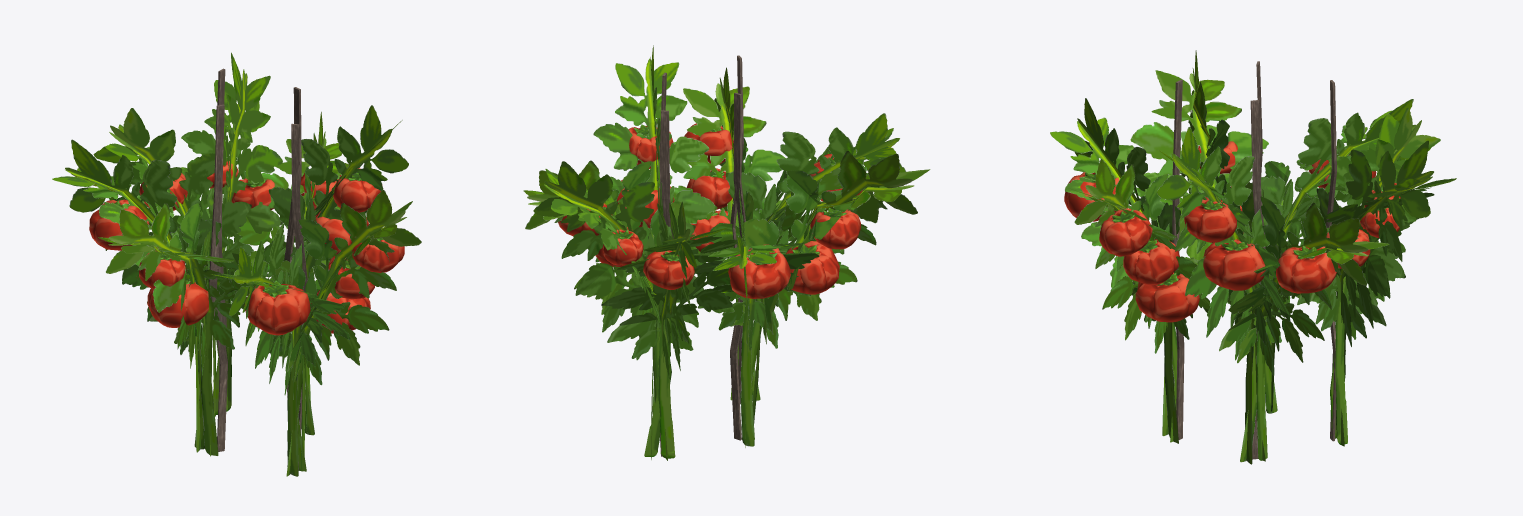
The model's file is Tomato_Step03.fbx.
3 views of the same model, side by side, from view 1: azimuth 30°, elevation 25°; view 2: azimuth 150°, elevation 25°; view 3: azimuth 270°, elevation 25° (orthographic). The views are drawn at different scales.
Visible parts, largest first — view 1: Tomato_01.014, Tomato_Step03; view 2: Tomato_01.014, Tomato_Step03; view 3: Tomato_01.014, Tomato_Step03.
Part boxes in pixels (x1,y1,x2,y2): Tomato_01.014: [52, 52, 421, 476]; Tomato_Step03: [209, 68, 307, 470]; Tomato_01.014: [523, 45, 930, 460]; Tomato_Step03: [659, 55, 745, 456]; Tomato_01.014: [1050, 50, 1456, 464]; Tomato_Step03: [1172, 61, 1336, 459].
Size of the model in its own units: 424 by 417 by 471.
